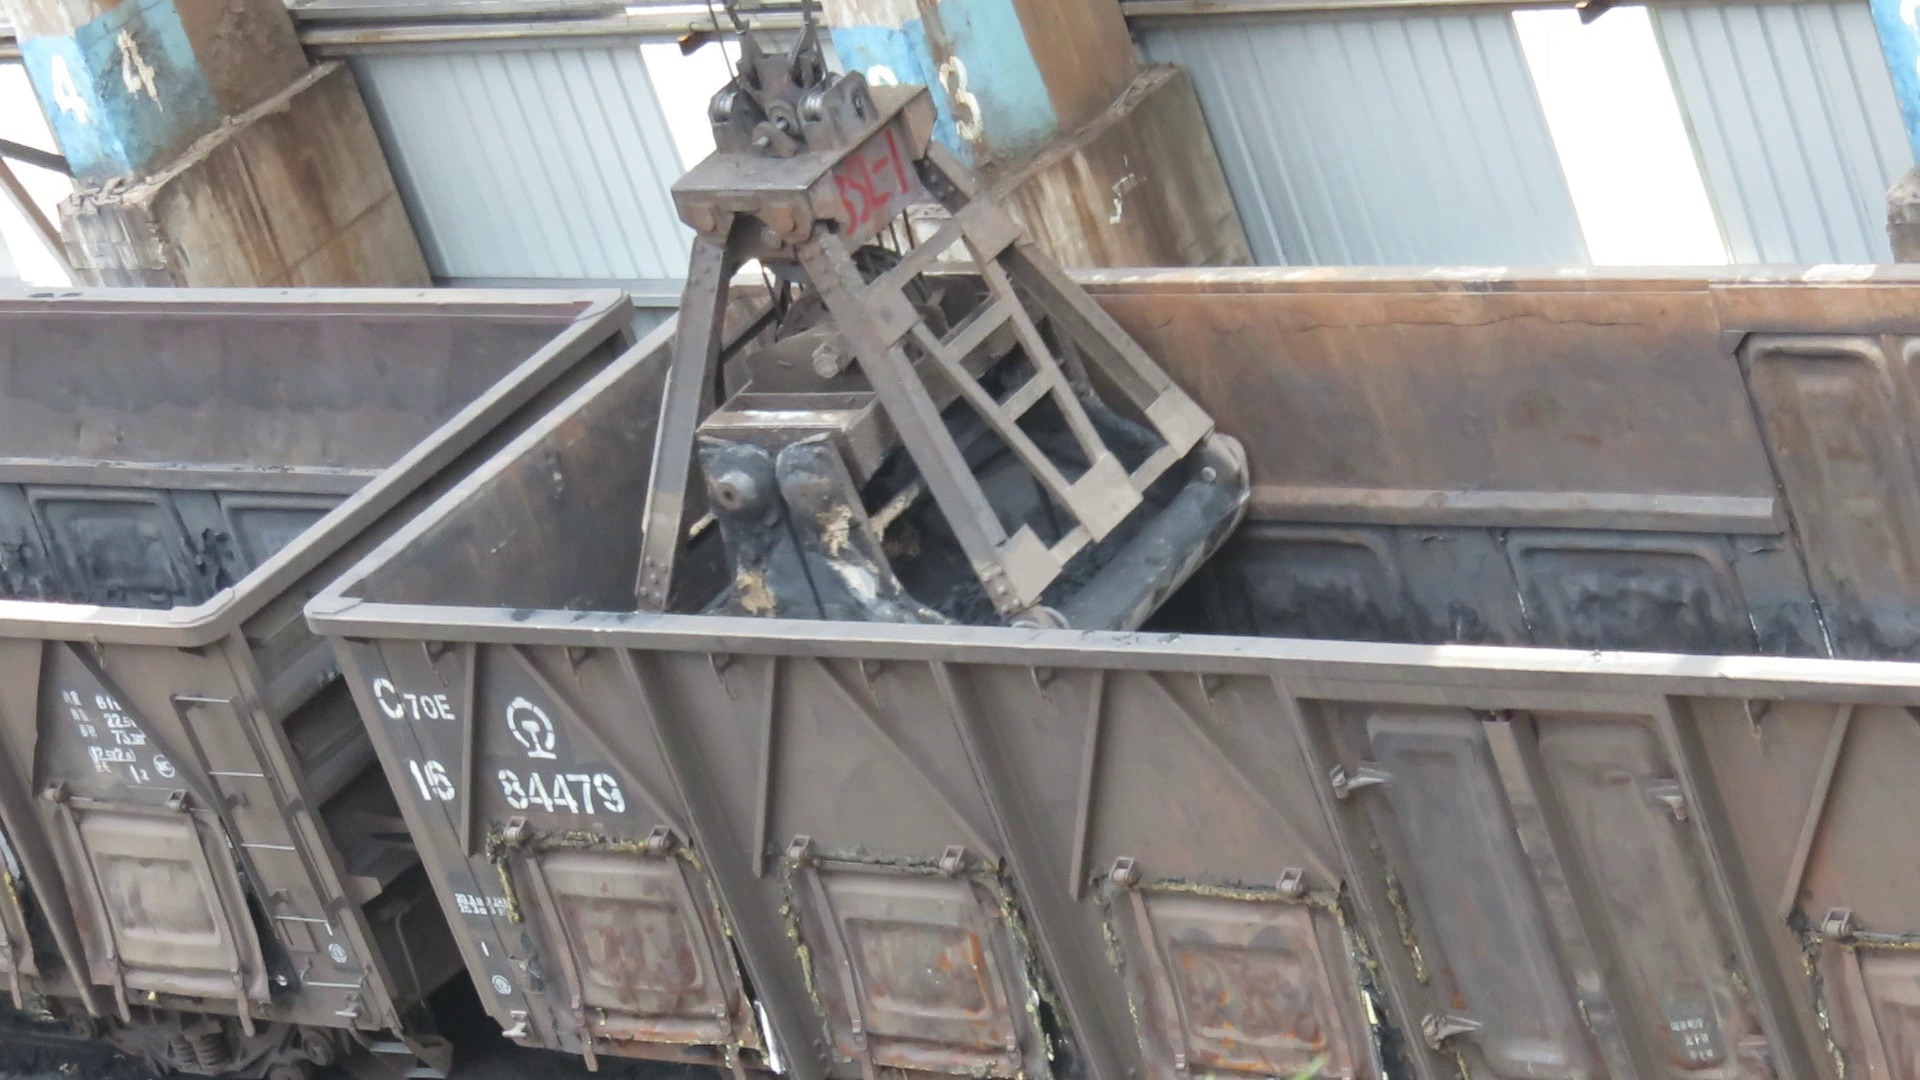grab: (615, 7, 1254, 642)
